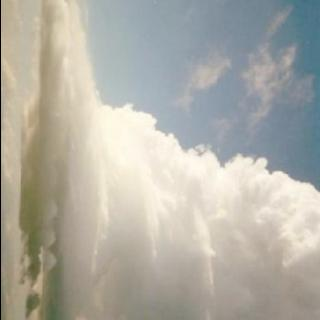Cumulonimbus: (18, 0, 320, 320)
